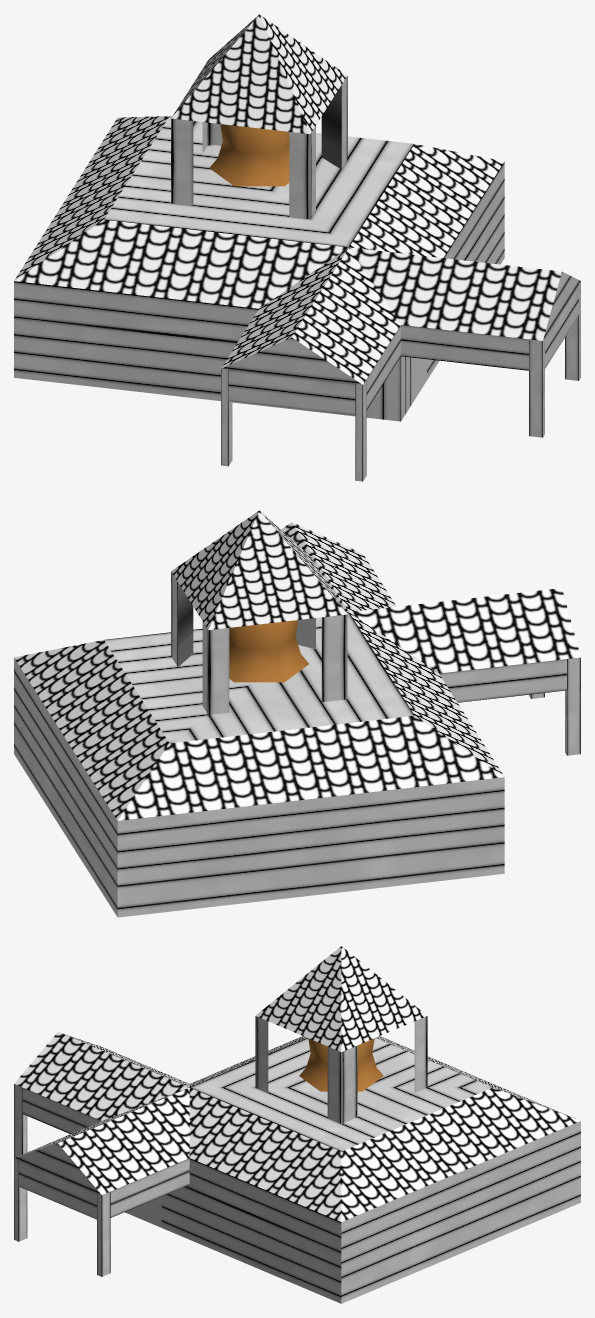
The model's file is gongon_center.fbx.
3 renders of one model, top to bottom at view 1: azimuth 30°, elevation 25°; view 2: azimuth 150°, elevation 25°; view 3: azimuth 270°, elevation 25°, orthographic. The views are drawn at different scales.
Visible parts, largest first — view 1: CenterTop, CenterBody, CenterTop.001; view 2: CenterTop, CenterBody, CenterTop.001; view 3: CenterTop, CenterBody, CenterTop.001, Door_R.
Part boxes in pixels (x1,y1,x2,y2): CenterTop: [14, 14, 580, 384]; CenterBody: [14, 162, 580, 481]; CenterTop.001: [209, 124, 289, 186]; CenterTop: [14, 510, 580, 820]; CenterBody: [14, 657, 580, 917]; CenterTop.001: [229, 620, 308, 682]; CenterTop: [14, 946, 580, 1221]; CenterBody: [14, 1084, 580, 1303]; CenterTop.001: [299, 1038, 383, 1091]; Door_R: [127, 1196, 161, 1227].
Size of the model in its own units: 21.24 by 12.56 by 25.14.
